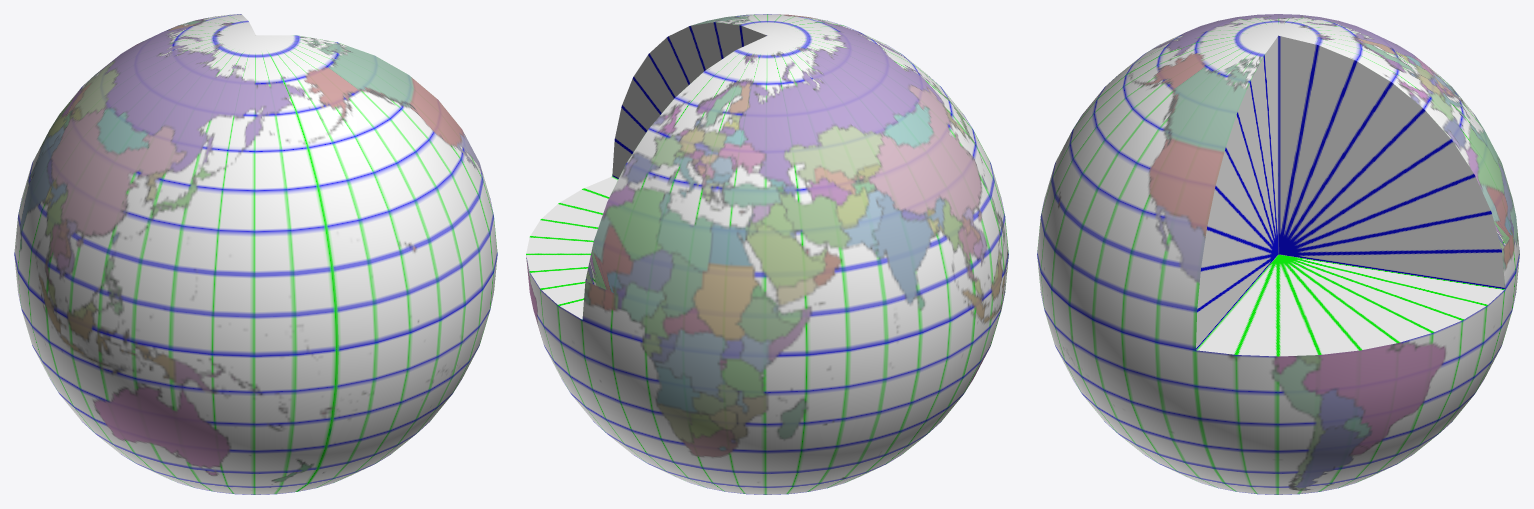
Rendered from Lat_Long_Segment.FBX.
3 renders of one model, left to right at view 1: azimuth 30°, elevation 25°; view 2: azimuth 150°, elevation 25°; view 3: azimuth 270°, elevation 25°, orthographic.
Parts seen in each view (by area): view 1: pSphere1; view 2: pSphere1; view 3: pSphere1.
Part boxes in pixels (x1,y1,x2,y2): pSphere1: [14, 14, 497, 494]; pSphere1: [526, 14, 1008, 494]; pSphere1: [1037, 14, 1519, 494].
Size of the model in its own units: 16 by 16 by 16.
1 material, 1 textured.
